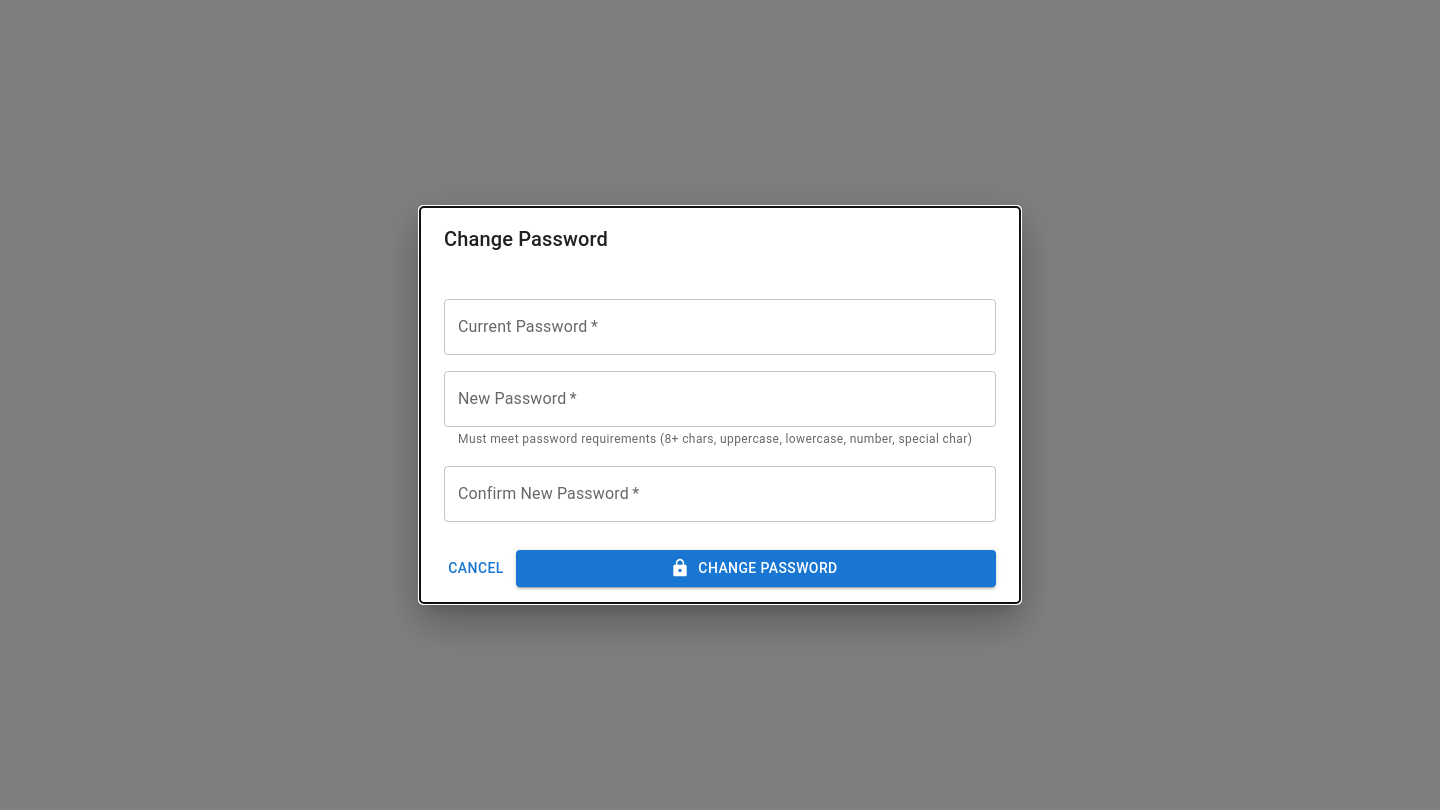
Scenario: ChangePasswordForm › should close error alert when close button is clicked
Type "CurrentPass123!" into the password field labelled "Current Password *" at (720, 327), box [444, 299, 996, 355]
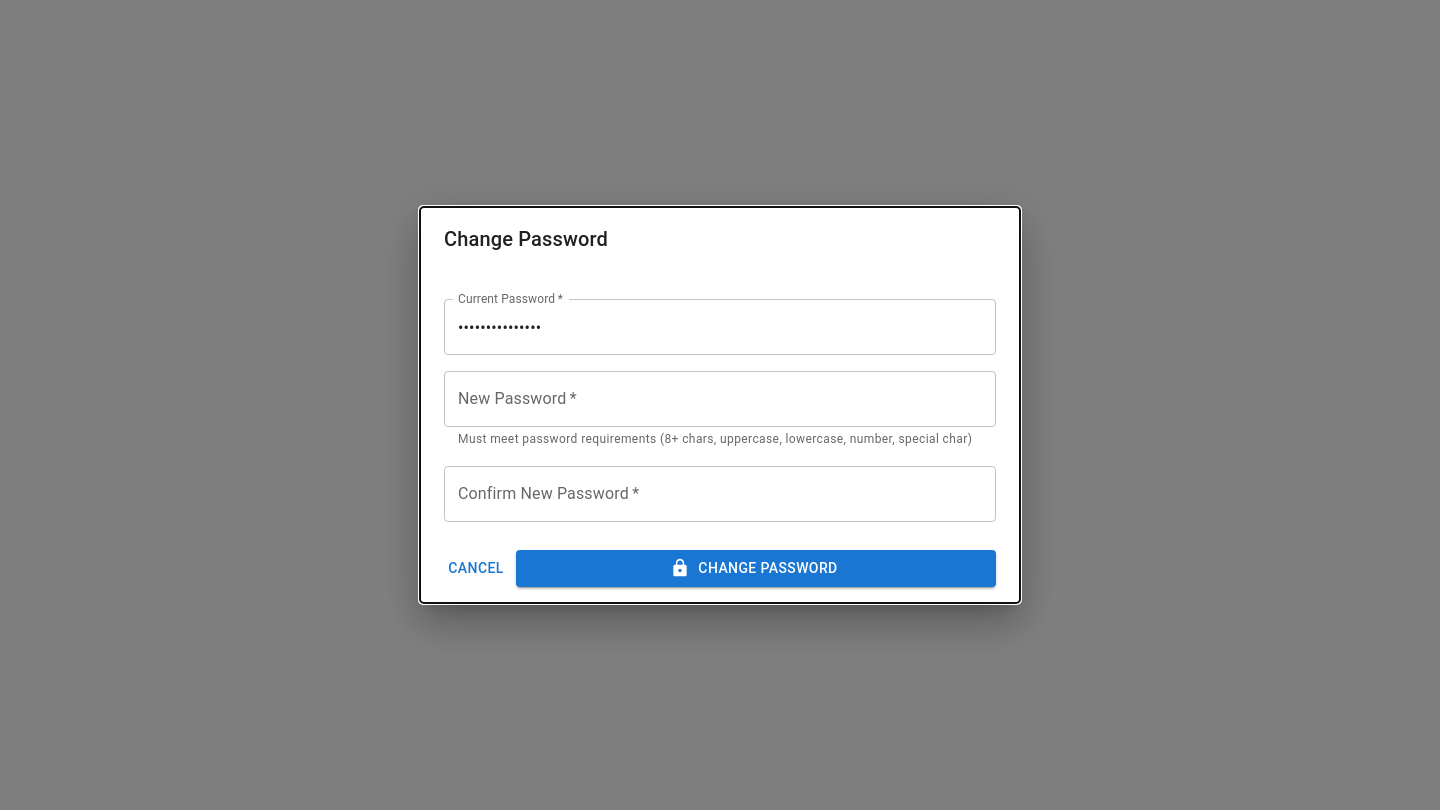
Type "NewPass123!" into the password field labelled "New Password *" at (720, 399), box [444, 371, 996, 427]
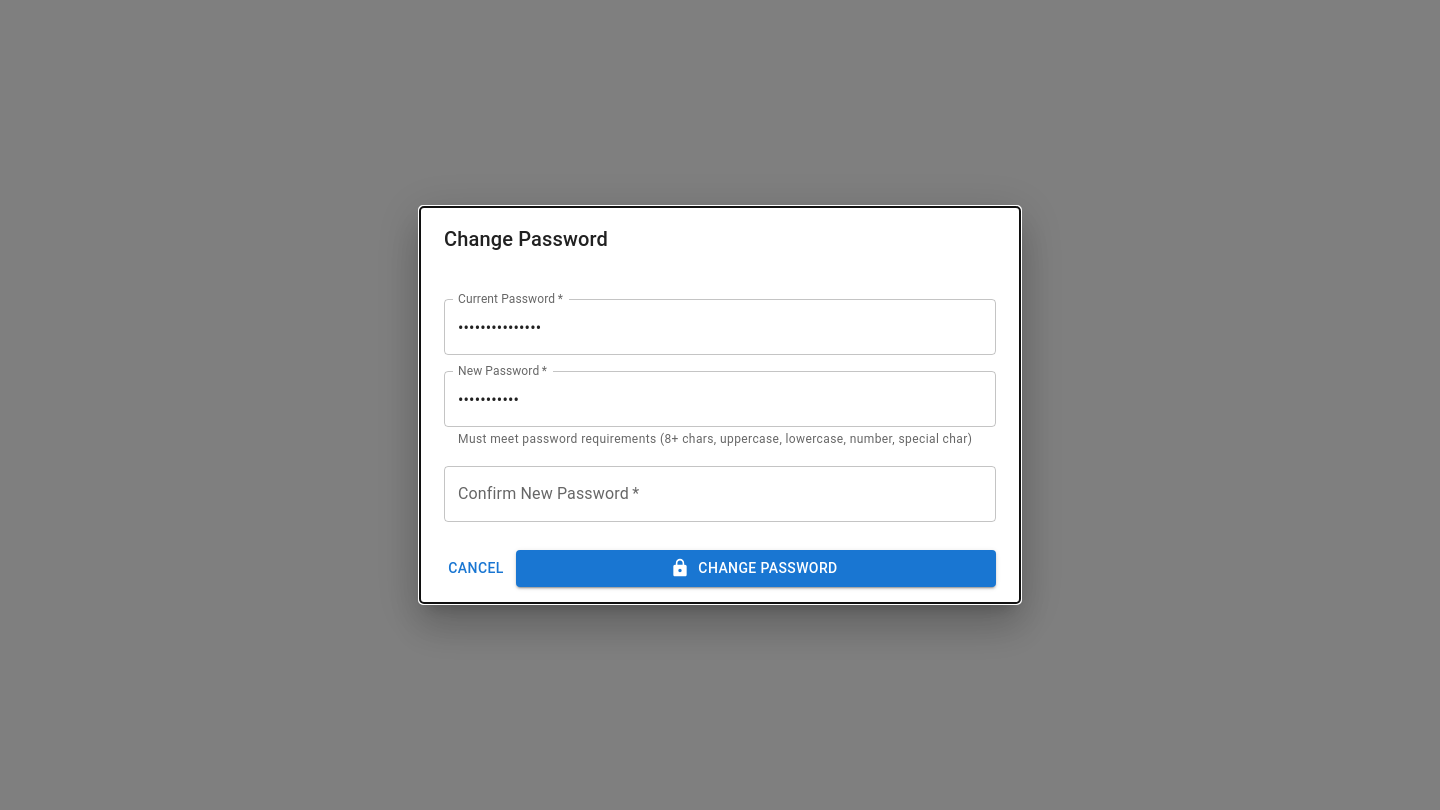
Type "NewPass123!" into the password field labelled "Confirm New Password *" at (720, 494), box [444, 466, 996, 522]
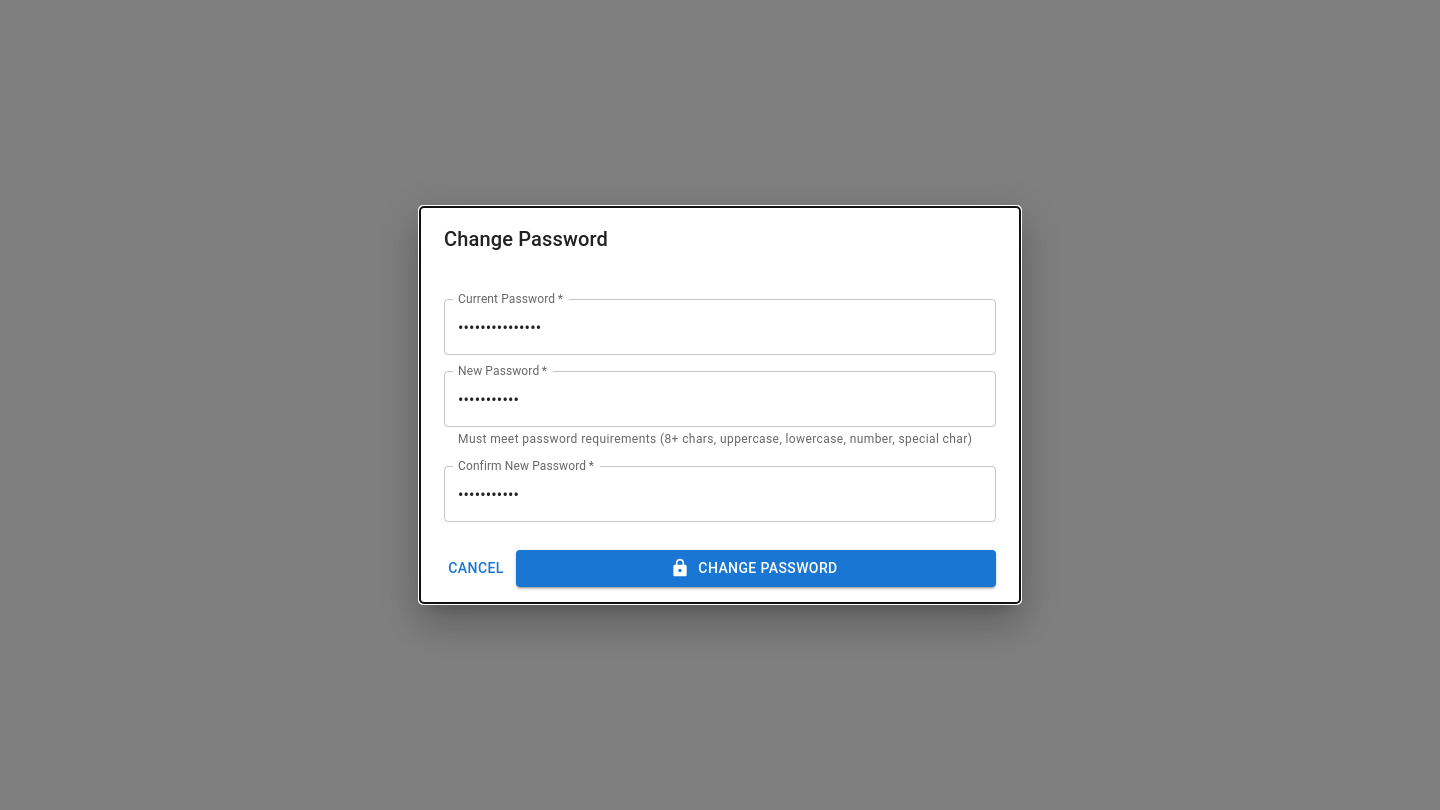
Click the button "Change Password" at (756, 568), box [516, 550, 996, 587]
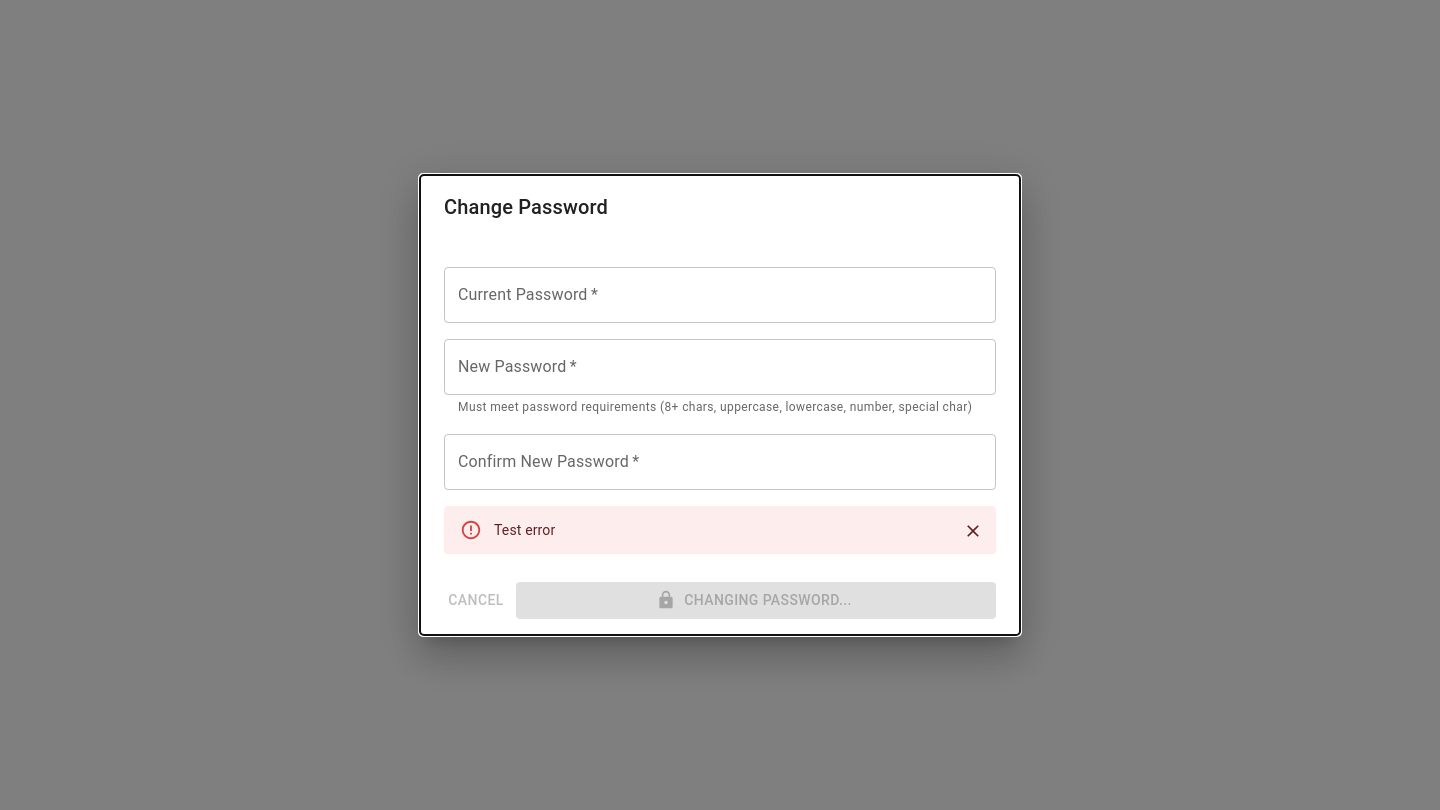
Expected: the message "Test error" is shown, [444, 506, 996, 554]
Click the button named "Close" at (973, 531), box [958, 516, 988, 546]
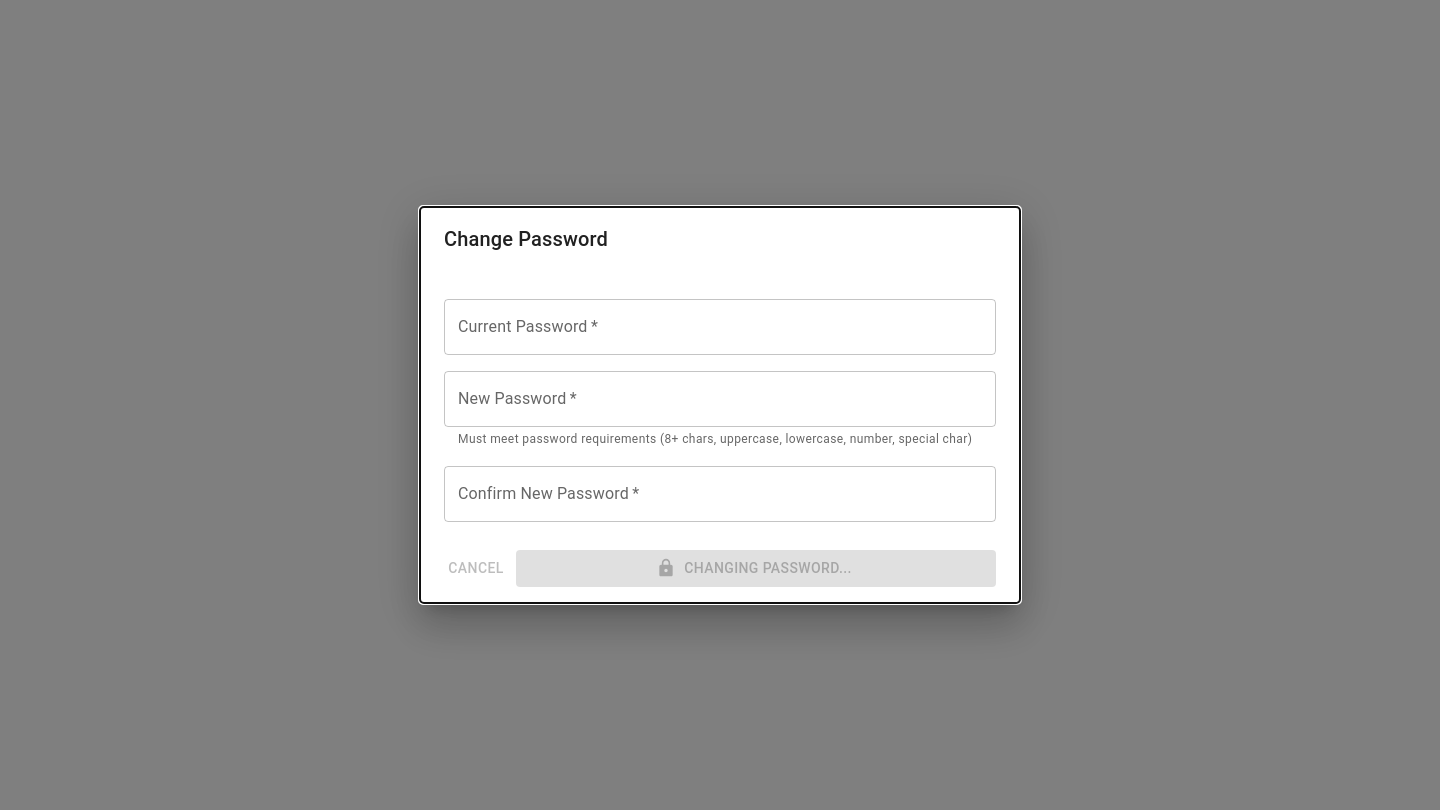
Expected: the message "Test error" is gone
